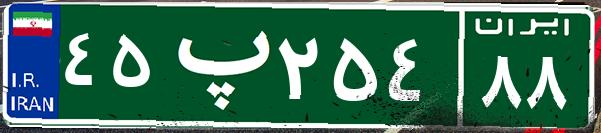2: (273, 28, 330, 110)
4: (385, 28, 445, 110), (57, 26, 110, 107)
5: (330, 28, 385, 110), (110, 28, 158, 105)
8: (475, 38, 525, 113), (525, 38, 570, 115)
پ: (158, 15, 273, 115)
